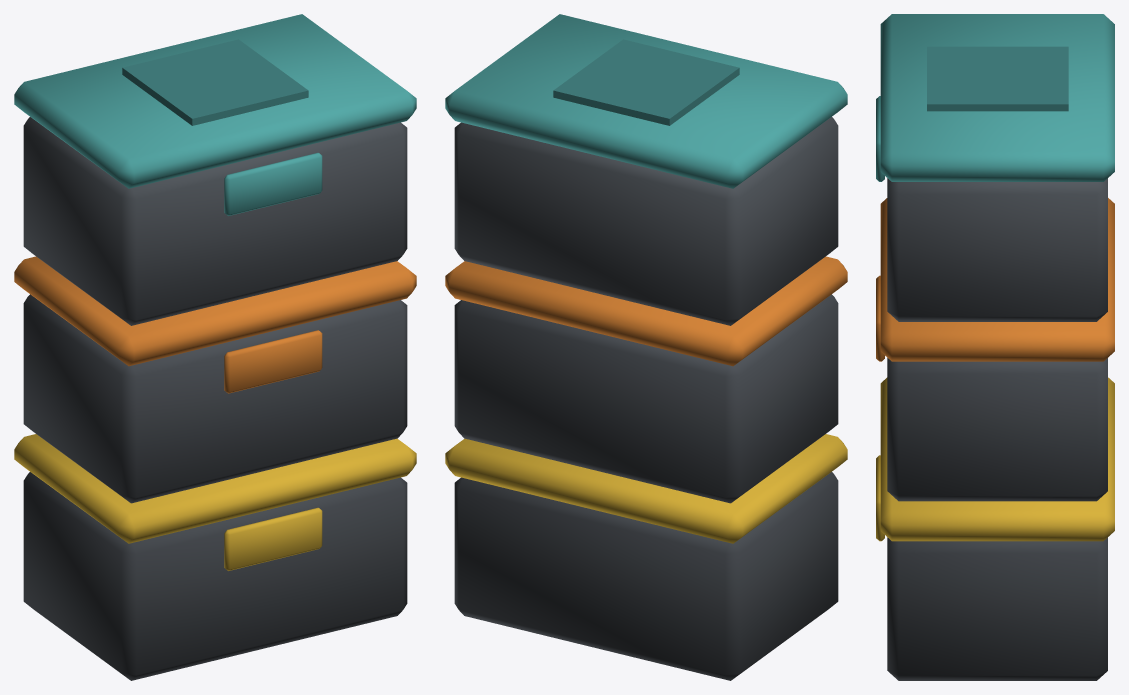
The model's file is SM_Tote_Stack_01.glb.
3 renders of one model, left to right at view 1: azimuth 30°, elevation 25°; view 2: azimuth 150°, elevation 25°; view 3: azimuth 270°, elevation 25°, orthographic.
Parts seen in each view (by area): view 1: SM_Tote_Stack_01; view 2: SM_Tote_Stack_01; view 3: SM_Tote_Stack_01.
Part boxes in pixels (<box>): SM_Tote_Stack_01: <box>14,14,416,680</box>; SM_Tote_Stack_01: <box>445,14,847,680</box>; SM_Tote_Stack_01: <box>876,14,1114,680</box>.
Bounding box in the file's own units: 0.614 × 1.05 × 0.422.
1 material, 1 textured.
